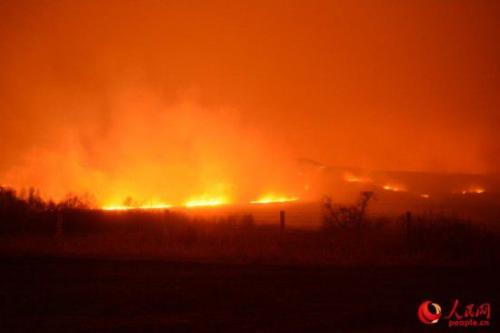fire: (81, 170, 307, 219)
smoke: (77, 17, 364, 117)
